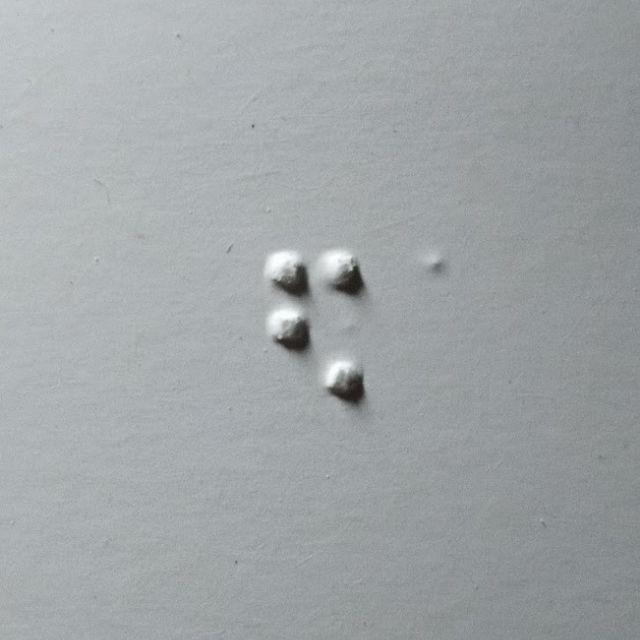nag: (265, 248, 366, 405)
